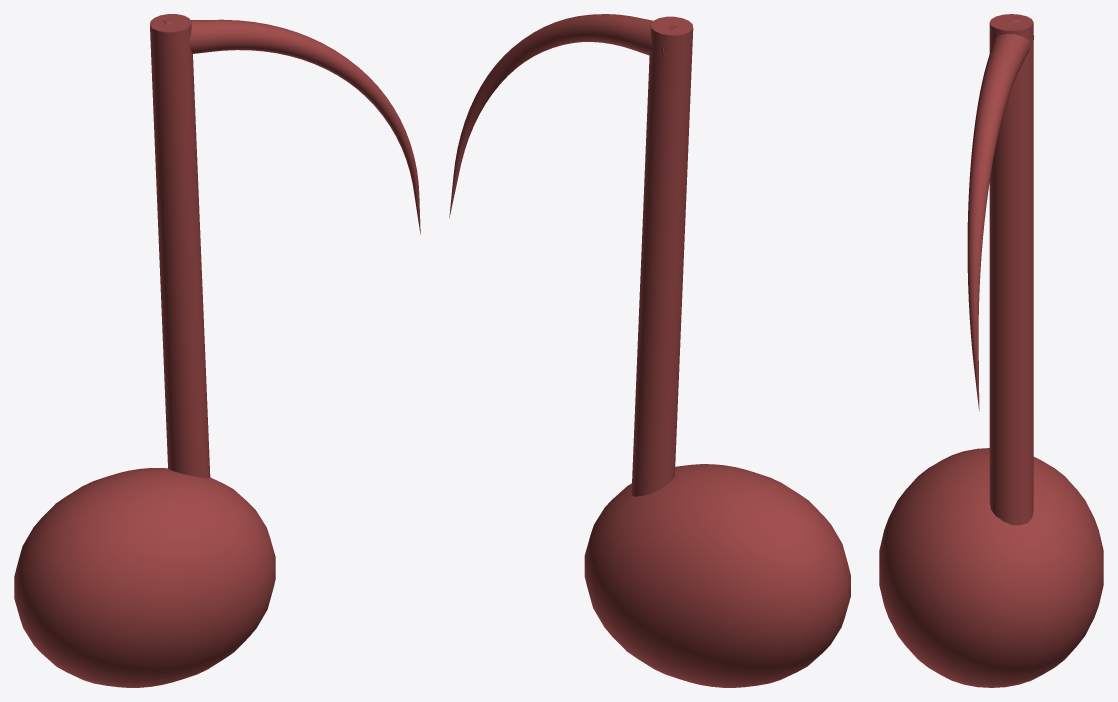
File: music2.obj
3 views of the same model, side by side, from view 1: azimuth 30°, elevation 25°; view 2: azimuth 150°, elevation 25°; view 3: azimuth 270°, elevation 25° (orthographic). The views are drawn at different scales.
Visible parts, largest first — view 1: ??, ???_1, ???; view 2: ??, ???_1, ???; view 3: ??, ???_1, ???.
Part boxes in pixels (bbox=[...]): ??: bbox=[14, 468, 275, 687]; ???_1: bbox=[150, 14, 210, 478]; ???: bbox=[163, 19, 420, 234]; ??: bbox=[584, 464, 850, 687]; ???_1: bbox=[631, 16, 693, 496]; ???: bbox=[449, 14, 678, 218]; ??: bbox=[879, 448, 1103, 687]; ???_1: bbox=[989, 14, 1033, 525]; ???: bbox=[967, 19, 1034, 411].
Size of the model in its own units: 24.01 by 37.73 by 11.5.
